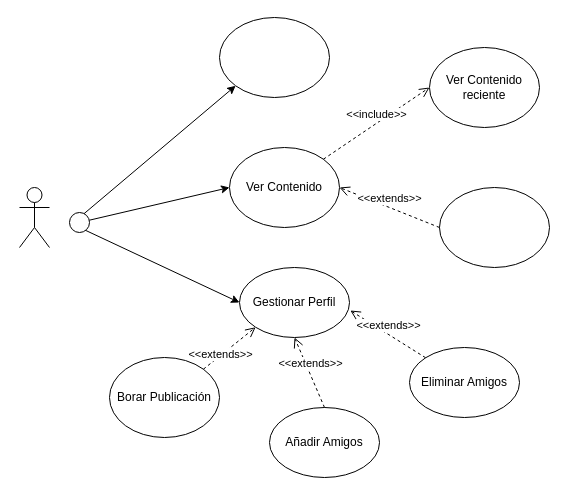
The diagram is 567 pixels wide and 495 high, and some of its shapes have lost their labels. Here are the shapes that lost their labels. From the top down, the centre of each, then its label:
At point 274,57: "Crear Publicación".
At point 34,217: "Usuari".
At point 494,227: "Buscar Cotenido por hashtag".
